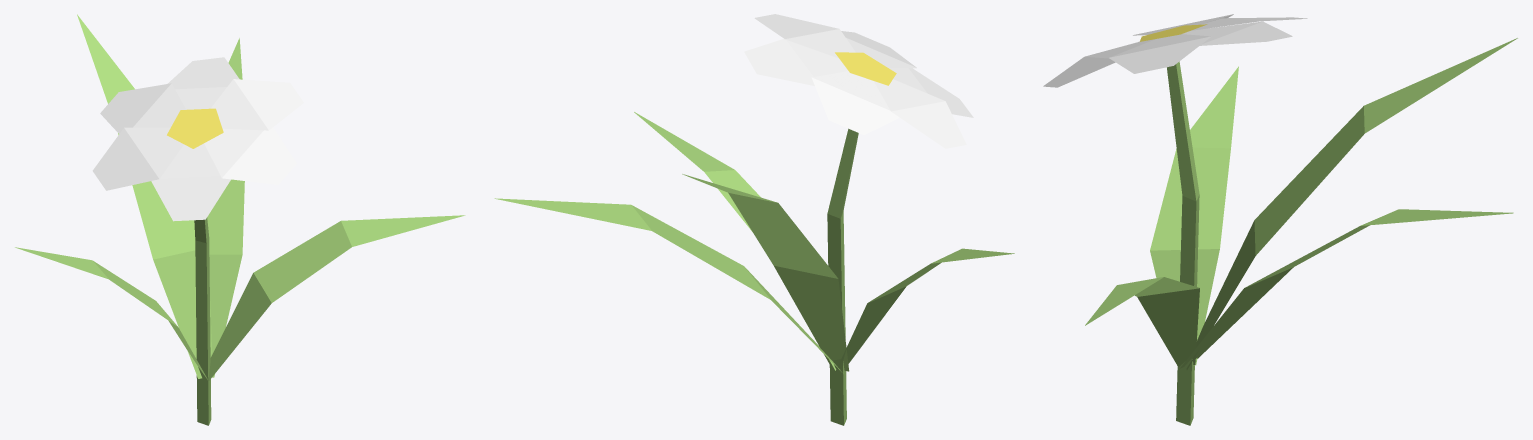
File: Flower_e_TwoS_09.fbx
The picture shows the model from 3 angles, left to right: view 1: azimuth 30°, elevation 25°; view 2: azimuth 150°, elevation 25°; view 3: azimuth 270°, elevation 25°; orthographic projection. The views are drawn at different scales.
Parts seen in each view (by area): view 1: Flower_e_TwoS_09; view 2: Flower_e_TwoS_09; view 3: Flower_e_TwoS_09.
Part boxes in pixels (bbox=[...]): Flower_e_TwoS_09: bbox=[15, 14, 465, 425]; Flower_e_TwoS_09: bbox=[494, 14, 1014, 425]; Flower_e_TwoS_09: bbox=[1043, 14, 1517, 425].
Size of the model in its own units: 0.419 by 0.3383 by 0.355.
